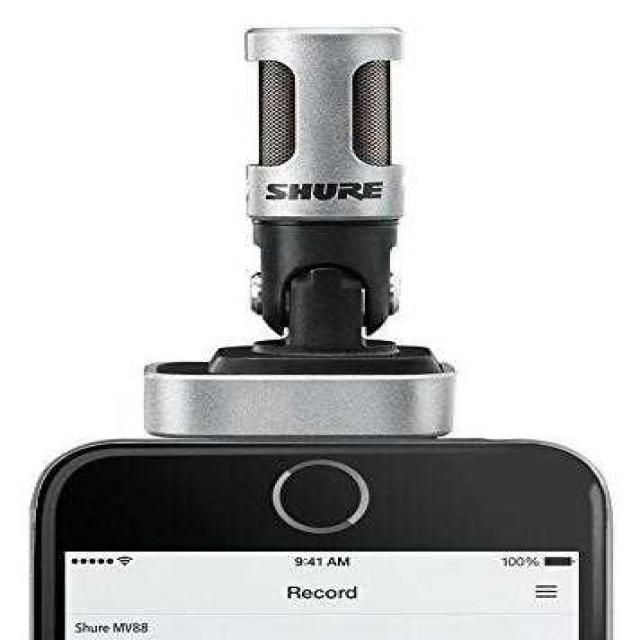microphone: (247, 32, 403, 347)
